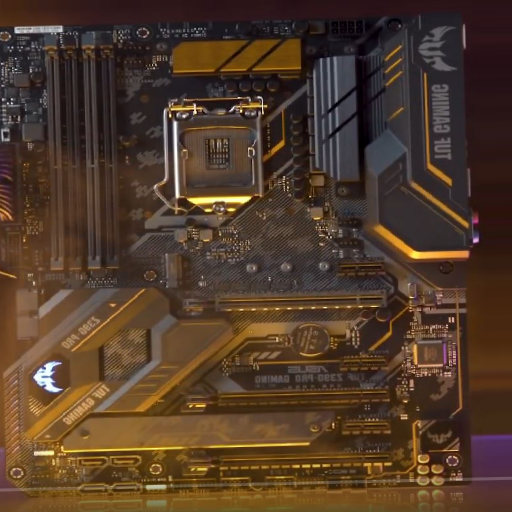CPU: (173, 95, 265, 218)
GPU: (181, 448, 392, 483), (172, 289, 388, 320), (178, 385, 392, 416)
MOTHERBOARD: (1, 19, 463, 500)
RAM: (40, 33, 123, 276)
SSD: (160, 251, 190, 290)
